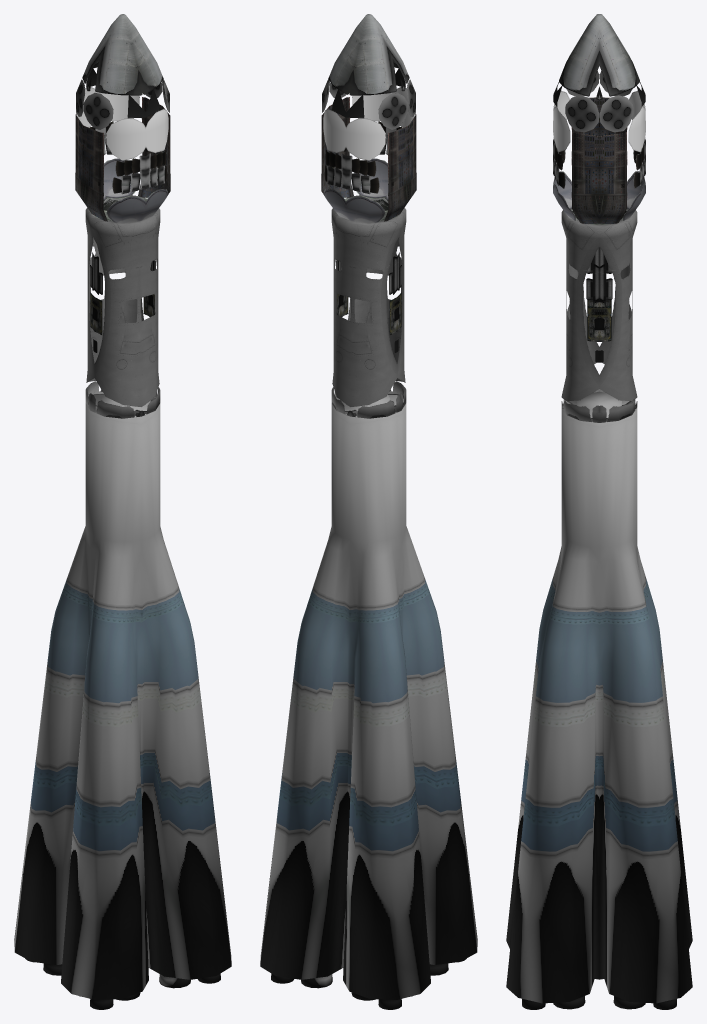
File: rocket.fbx
3 views of the same model, side by side, from view 1: azimuth 30°, elevation 25°; view 2: azimuth 150°, elevation 25°; view 3: azimuth 270°, elevation 25° (orthographic).
Parts seen in each view (by area): view 1: first_step, main_head, second_step; view 2: first_step, main_head, second_step; view 3: first_step, main_head, second_step.
Part boxes in pixels (bbox=[...]): first_step: bbox=[14, 391, 231, 1009]; main_head: bbox=[75, 14, 170, 223]; second_step: bbox=[85, 195, 160, 418]; first_step: bbox=[260, 391, 477, 1009]; main_head: bbox=[321, 14, 416, 223]; second_step: bbox=[331, 195, 406, 418]; first_step: bbox=[506, 391, 692, 1009]; main_head: bbox=[553, 14, 645, 225]; second_step: bbox=[561, 209, 637, 422].
Bounding box in the file's own units: 7.38 × 42.06 × 7.38.
